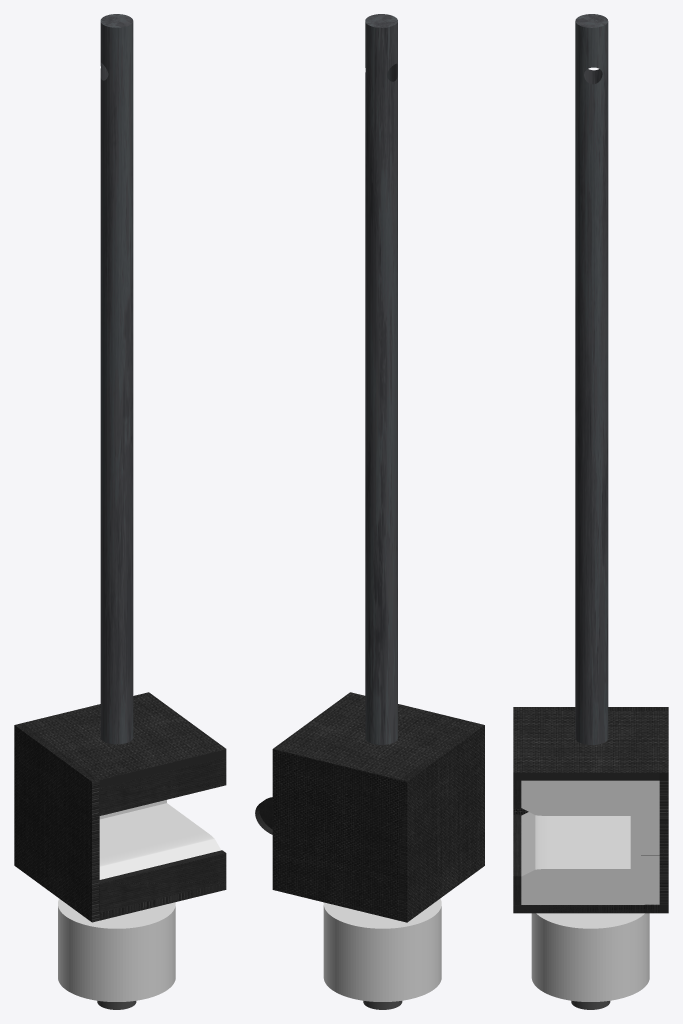
Rendered from column.fbx.
The picture shows the model from 3 angles, left to right: view 1: azimuth 30°, elevation 25°; view 2: azimuth 150°, elevation 25°; view 3: azimuth 270°, elevation 25°; orthographic projection.
Parts seen in each view (by area): view 1: 立方体.006, 柱体; view 2: 立方体.006, 柱体; view 3: 立方体.006, 柱体.
Part boxes in pixels (x1,y1,x2,y2): 立方体.006: (14, 14, 226, 922); 柱体: (58, 898, 175, 1001); 立方体.006: (255, 14, 484, 922); 柱体: (323, 898, 441, 1001); 立方体.006: (513, 14, 668, 913); 柱体: (531, 913, 649, 1001).
Size of the model in its own units: 285 by 1757 by 252.
